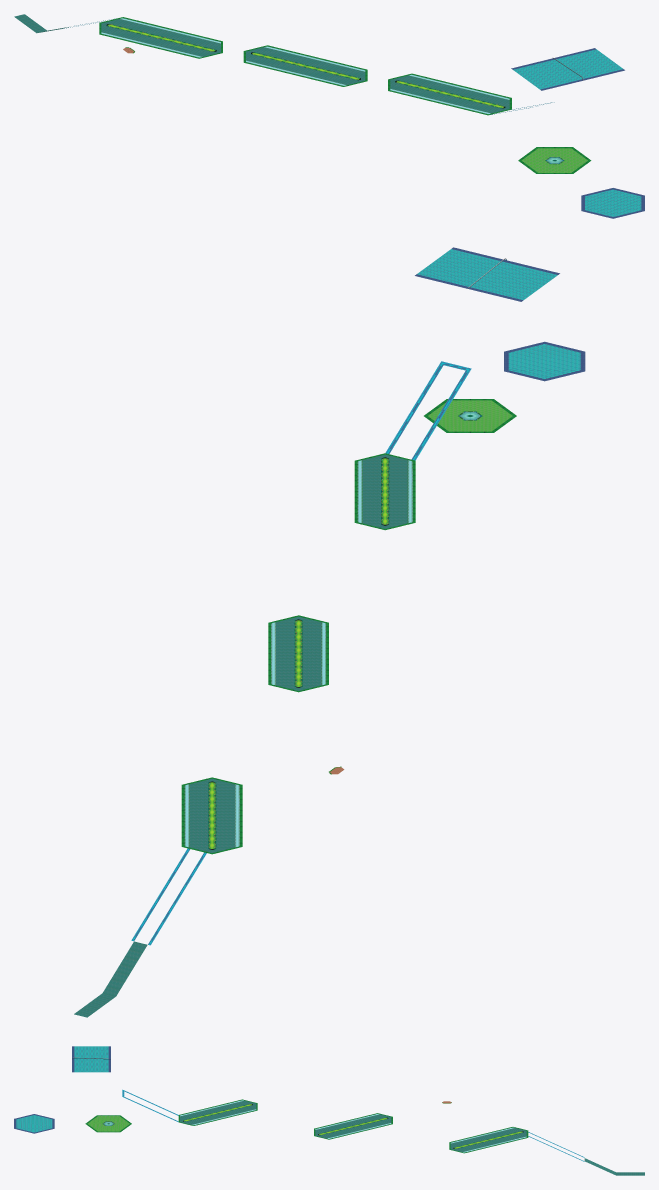
Rendered from S03_ONS_06.OBJ.
3 views of the same model, one above another, from view 1: azimuth 30°, elevation 25°; view 2: azimuth 150°, elevation 25°; view 3: azimuth 270°, elevation 25° (orthographic). The views are drawn at different scales.
Parts seen in each view (by area): view 1: s03_ons_06_9, s03_ons_06_1, s03_ons_06_2, s03_ons_06_10, s03_ons_06_8, s03_ons_06_4, s03_ons_06_0; view 2: s03_ons_06_9, s03_ons_06_1, s03_ons_06_2, s03_ons_06_10, s03_ons_06_6, s03_ons_06_4, s03_ons_06_8, s03_ons_06_0; view 3: s03_ons_06_9, s03_ons_06_1, s03_ons_06_2, s03_ons_06_10, s03_ons_06_8, s03_ons_06_4, s03_ons_06_6, s03_ons_06_0.
Part boxes in pixels (box(x1,y1,x2,y2)): s03_ons_06_9: box(14, 14, 509, 113); s03_ons_06_1: box(513, 49, 641, 216); s03_ons_06_2: box(99, 17, 591, 173); s03_ons_06_10: box(101, 18, 509, 114); s03_ons_06_8: box(107, 24, 504, 108); s03_ons_06_4: box(521, 148, 587, 172); s03_ons_06_0: box(511, 48, 644, 218); s03_ons_06_9: box(74, 454, 407, 1017); s03_ons_06_1: box(417, 249, 580, 378); s03_ons_06_2: box(181, 399, 516, 854); s03_ons_06_10: box(184, 460, 412, 847); s03_ons_06_6: box(131, 361, 471, 945); s03_ons_06_4: box(428, 400, 512, 431); s03_ons_06_8: box(208, 458, 389, 848); s03_ons_06_0: box(415, 247, 585, 381); s03_ons_06_9: box(180, 1100, 644, 1175); s03_ons_06_1: box(16, 1046, 108, 1132); s03_ons_06_2: box(85, 1099, 528, 1153); s03_ons_06_10: box(180, 1100, 526, 1152); s03_ons_06_8: box(183, 1104, 523, 1148); s03_ons_06_4: box(87, 1116, 129, 1131); s03_ons_06_6: box(122, 1089, 584, 1161); s03_ons_06_0: box(14, 1046, 110, 1133).
Bounding box in the file's own units: 1346 × 1488 × 5596.
